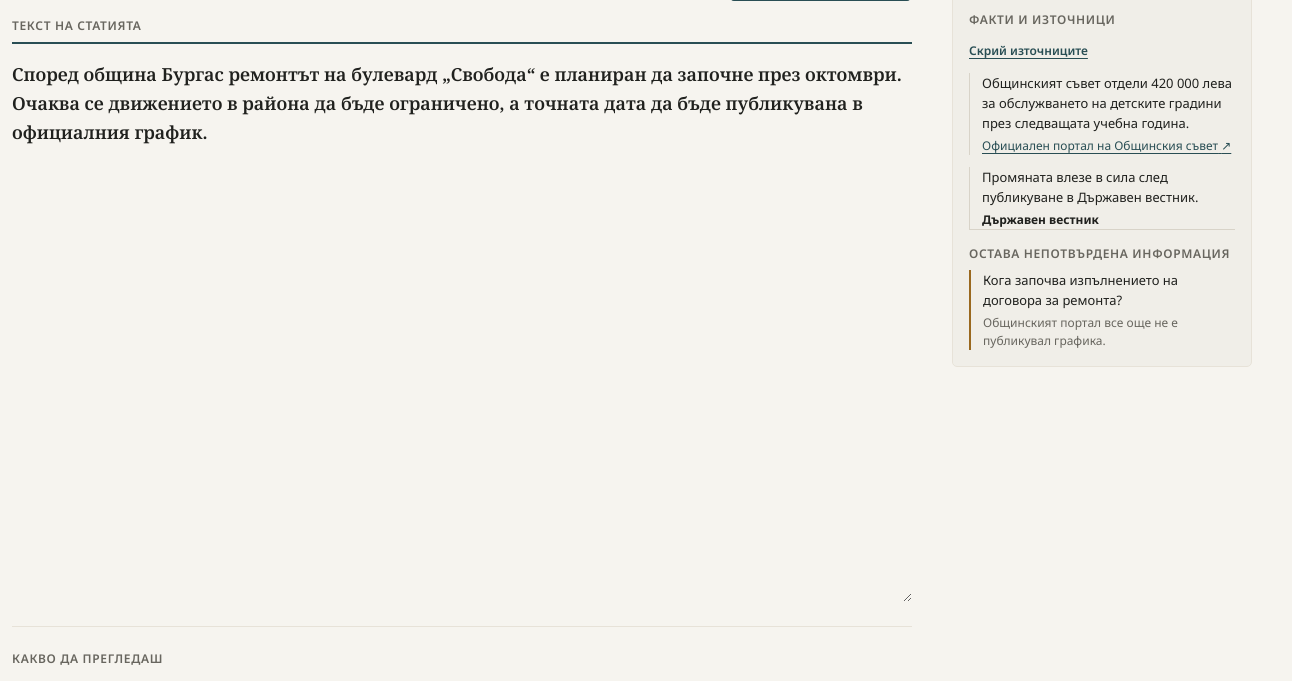
Test: V1.2-G3 §37 — Ready and Finalized › reports a failed autosave truthfully without exposing internals
The image size is (1292, 681).
(page scrolled)
Replace the text in the text box labelled "Текст на статията" with "Текст, който няма да се запише." at (462, 322), box [12,42,912,602]
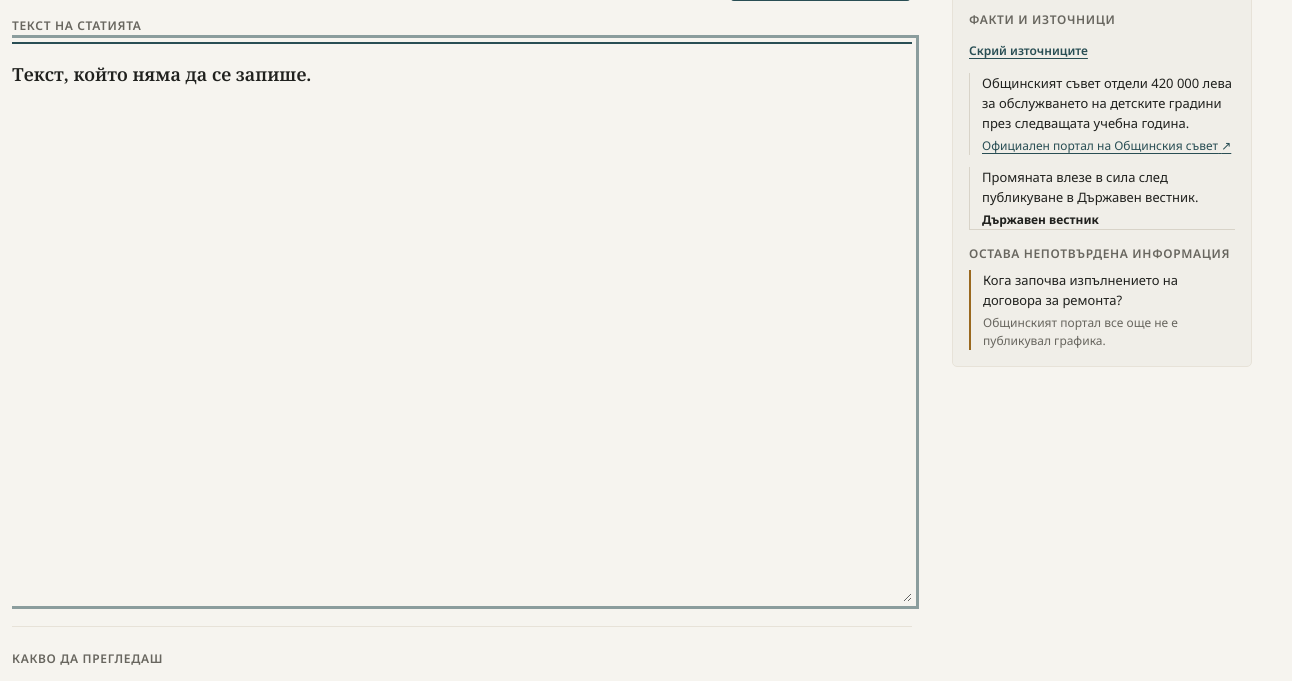
Press Tab
(page scrolled)
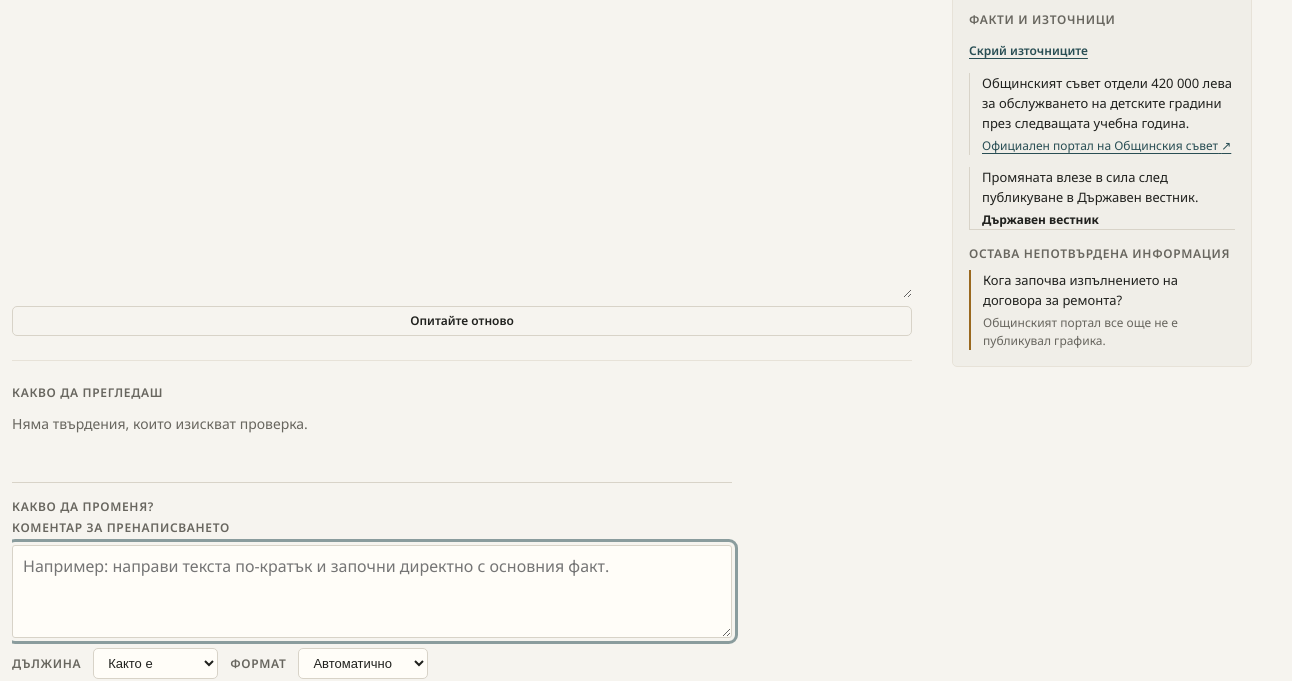
Check: the button "Опитайте отново" is shown, box [12,306,912,336]
